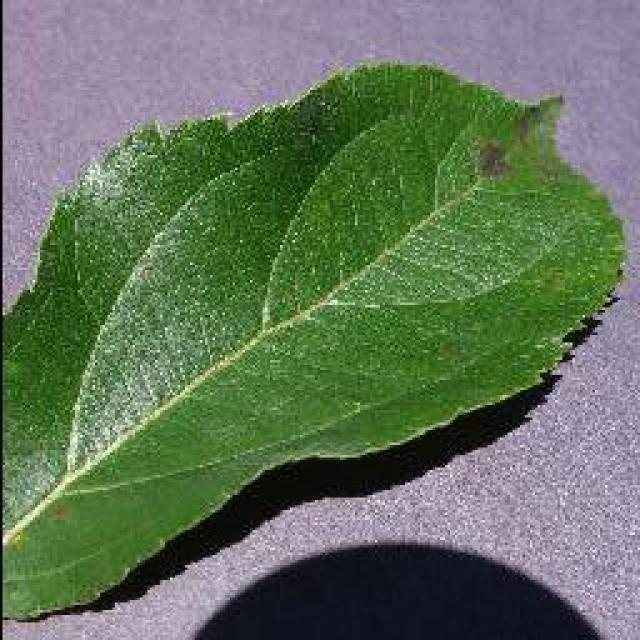apple scab disease: (0, 55, 628, 623)
